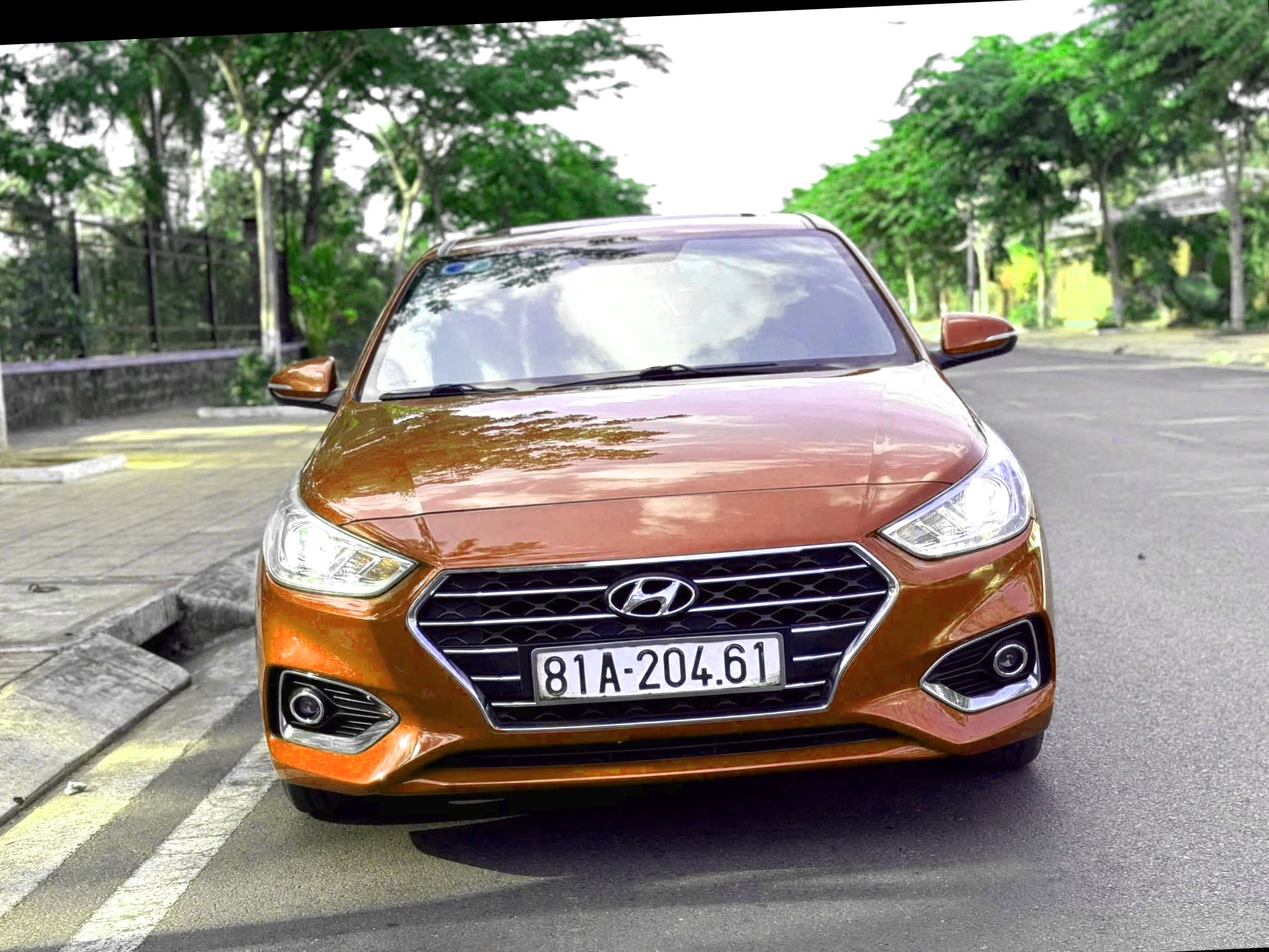Bien-so: (557, 644, 798, 691)
